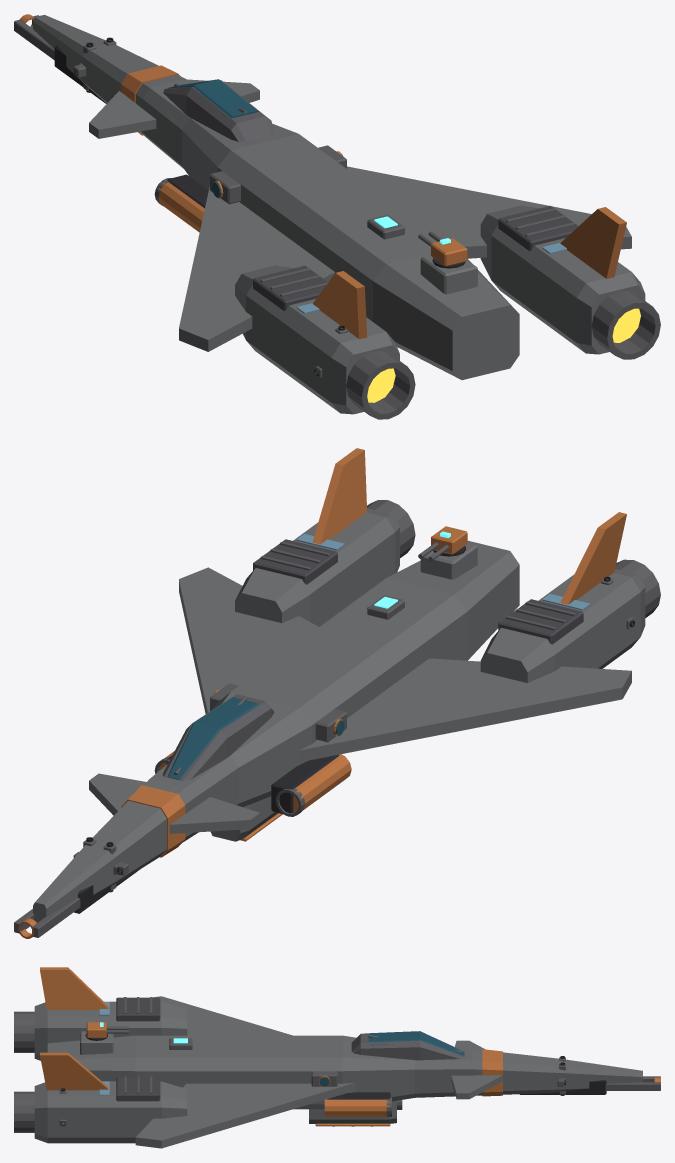
The model's file is mars_interceptor_t3.glb.
3 views of the same model, one above another, from view 1: azimuth 30°, elevation 25°; view 2: azimuth 150°, elevation 25°; view 3: azimuth 270°, elevation 25° (orthographic). The views are drawn at different scales.
Visible parts, largest first — view 1: FleetHull, mesh_pd_yaw_0; view 2: FleetHull; view 3: FleetHull, mesh_pd_yaw_0.
Part boxes in pixels (box(x1,y1,x2,y2)): FleetHull: box(14, 14, 660, 419); mesh_pd_yaw_0: box(431, 238, 467, 266); FleetHull: box(14, 448, 660, 938); FleetHull: box(14, 967, 660, 1148); mesh_pd_yaw_0: box(86, 1022, 106, 1037).
Size of the model in its own units: 13.2 by 4.71 by 25.
